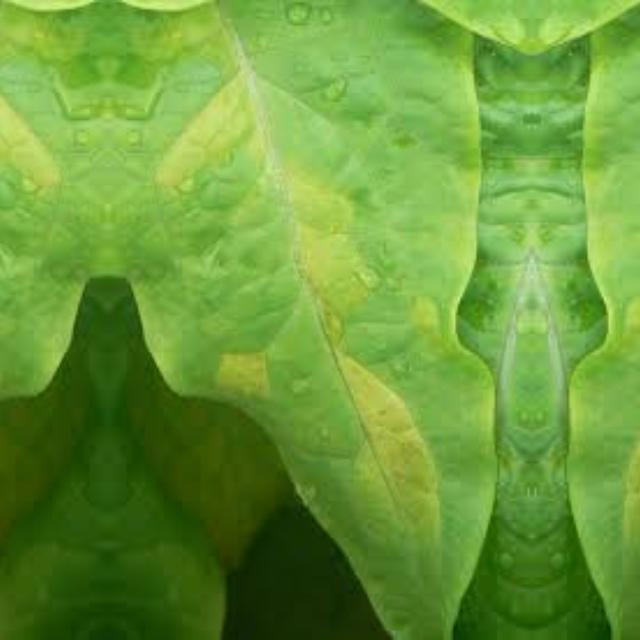Downy_mildew: (117, 10, 531, 640), (531, 10, 640, 640), (0, 10, 97, 640)
